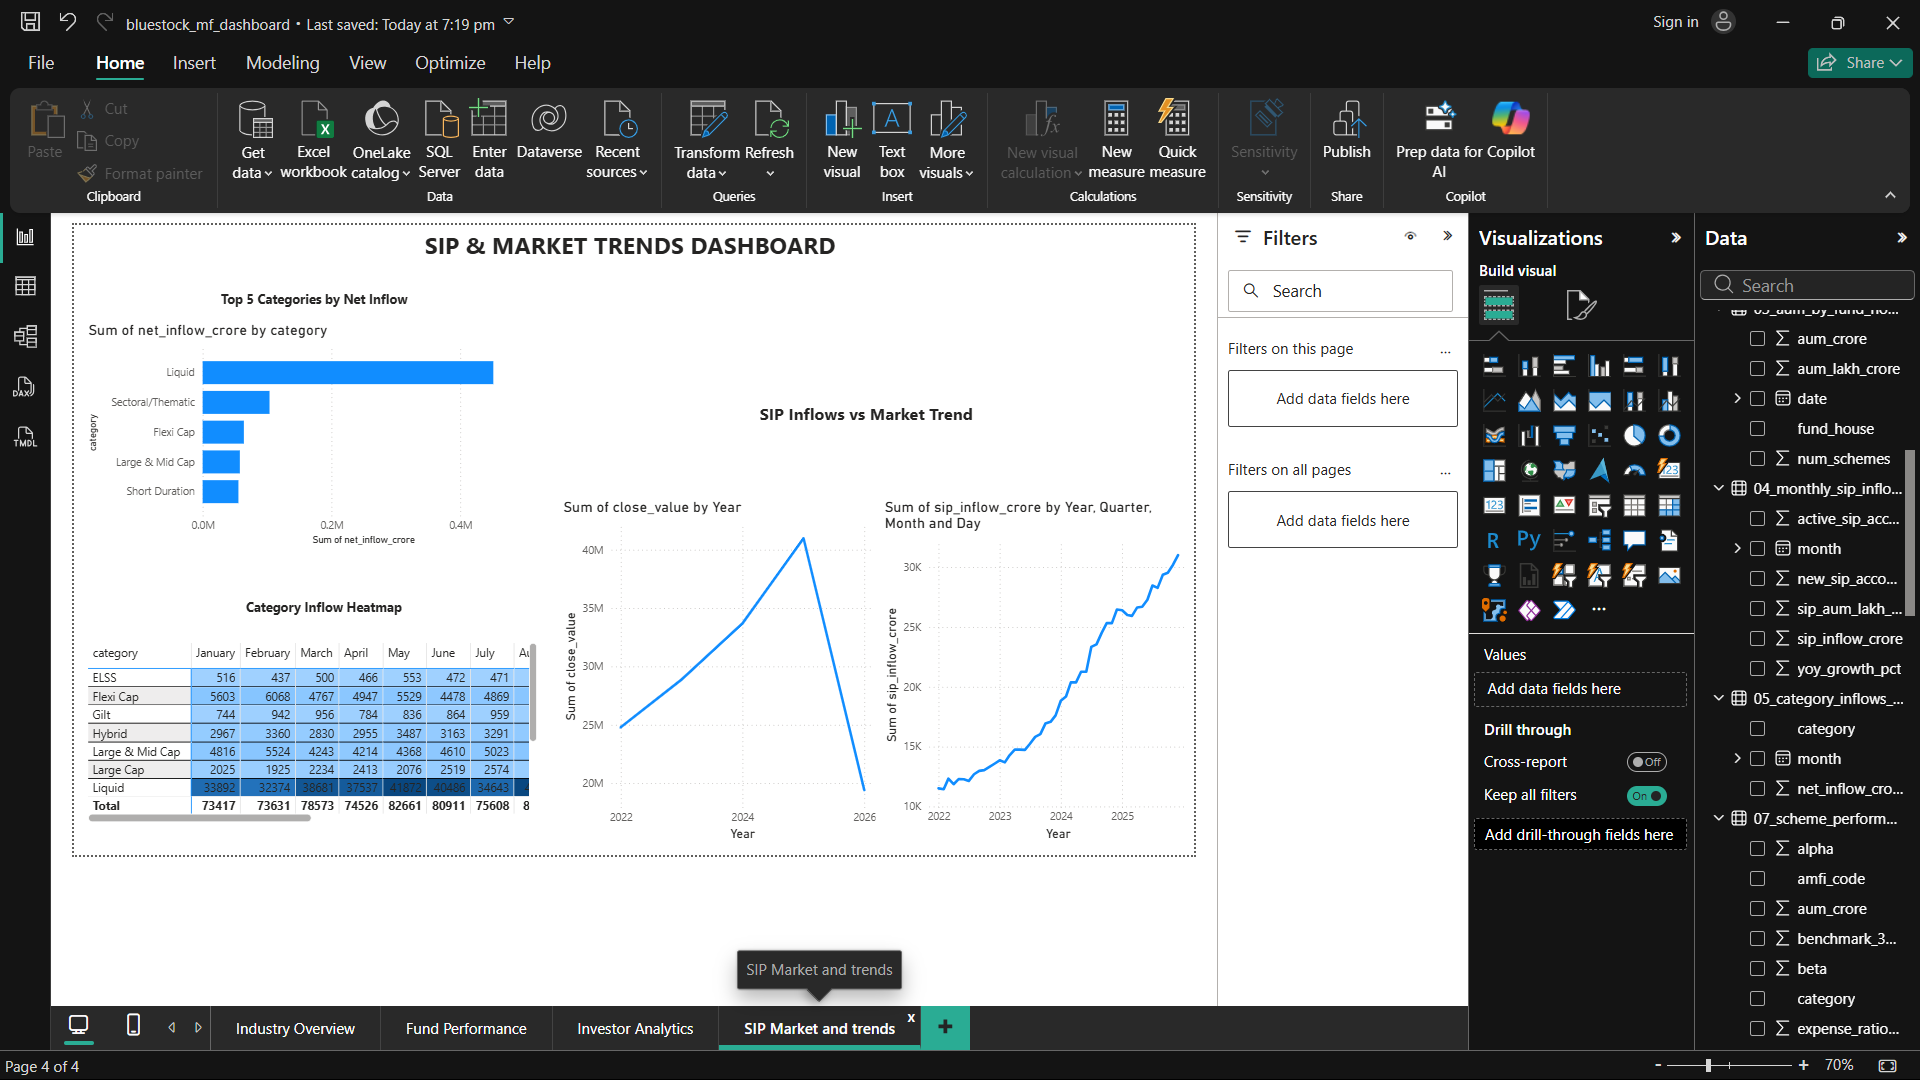

The dashboard page shown, as its layout file describes it:
{"tool":"powerbi","page":{"name":"SIP Market and trends","canvas":[1280,720],"ordinal":3},"visuals":[{"type":"textbox","box":[395.7,0,488.6,45.7],"z":0},{"type":"lineChart","fields":{"Y":["Sum(04_monthly_sip_inflows_clean.sip_inflow_crore)"],"Category":["04_monthly_sip_inflows_clean.month.Variation.Date Hierarchy.Year","04_monthly_sip_inflows_clean.month.Variation.Date Hierarchy.Quarter","04_monthly_sip_inflows_clean.month.Variation.Date Hierarchy.Month","04_monthly_sip_inflows_clean.month.Variation.Date Hierarchy.Day"]},"box":[921.4,311.4,358.6,397.1],"z":1},{"type":"lineChart","fields":{"Category":["10_benchmark_indices_clean.date.Variation.Date Hierarchy.Year","10_benchmark_indices_clean.date.Variation.Date Hierarchy.Quarter","10_benchmark_indices_clean.date.Variation.Date Hierarchy.Month","10_benchmark_indices_clean.date.Variation.Date Hierarchy.Day"],"Y":["Sum(10_benchmark_indices_clean.close_value)"]},"box":[554.3,311.4,367.1,397.1],"z":2},{"type":"pivotTable","fields":{"Rows":["05_category_inflows_clean.category"],"Columns":["05_category_inflows_clean.month.Variation.Date Hierarchy.Month","05_category_inflows_clean.month.Variation.Date Hierarchy.Day"],"Values":["Sum(05_category_inflows_clean.net_inflow_crore)"]},"box":[11.4,472.9,522.9,214.3],"z":3},{"type":"clusteredBarChart","fields":{"Category":["05_category_inflows_clean.category"],"Y":["Sum(05_category_inflows_clean.net_inflow_crore)"]},"box":[11.4,110,522.9,261.4],"z":4},{"type":"textbox","box":[778.6,198.6,351.4,42.9],"z":5},{"type":"textbox","box":[191.4,421.4,204.3,35.7],"z":6},{"type":"textbox","box":[162.9,70,244.3,40],"z":7}]}

Visuals, with their boxes on the page's 1280x720 design canvas (x1, y1, x2, y2). These are canvas units, not pixel positions in the 1920x1080 screenshot, which may show the page scaled, cropped or inside an application window:
textbox: 396,0,884,46
lineChart - Sum(04_monthly_sip_inflows_clean.sip_inflow_crore) x 04_monthly_sip_inflows_clean.month.Variation.Date Hierarchy.Year: 921,311,1280,708
lineChart - 10_benchmark_indices_clean.date.Variation.Date Hierarchy.Year x 10_benchmark_indices_clean.date.Variation.Date Hierarchy.Quarter: 554,311,921,708
pivotTable - 05_category_inflows_clean.category x 05_category_inflows_clean.month.Variation.Date Hierarchy.Month: 11,473,534,687
clusteredBarChart - 05_category_inflows_clean.category x Sum(05_category_inflows_clean.net_inflow_crore): 11,110,534,371
textbox: 779,199,1130,242
textbox: 191,421,396,457
textbox: 163,70,407,110
